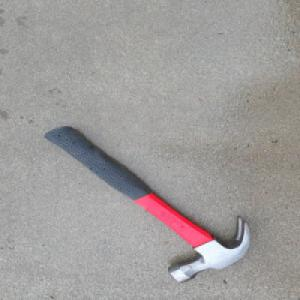Hammer: (42, 125, 251, 274)
